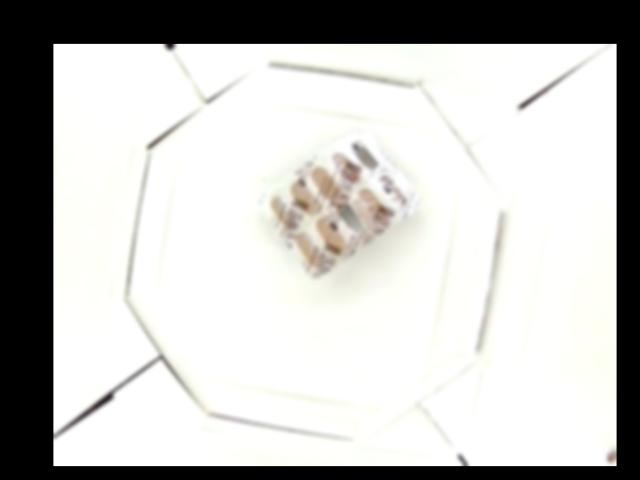Medicine: (257, 127, 418, 279)
